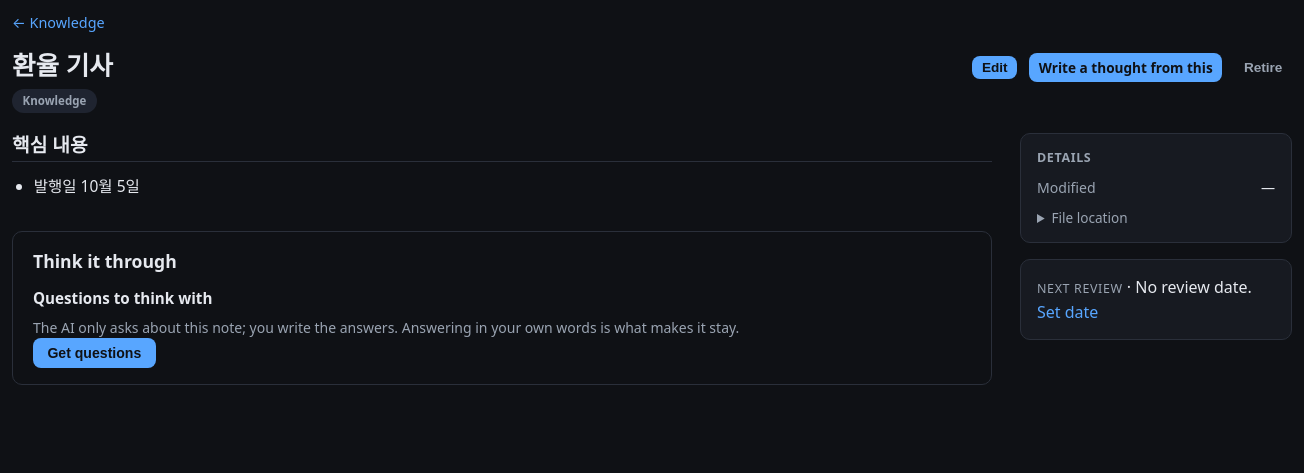
it: Editing notes › shows why an edit was not saved
Click the button "Edit". click: x=995, y=68
box: [972,56,1017,79]
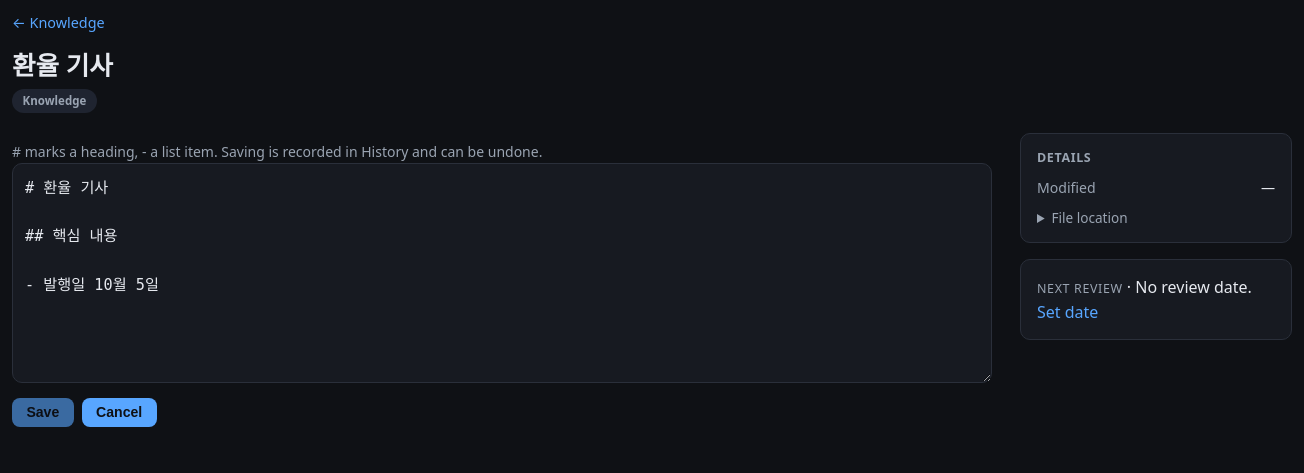
Type " 추가" into the text box named "Edit". click: x=502, y=273
box: [12,162,992,383]
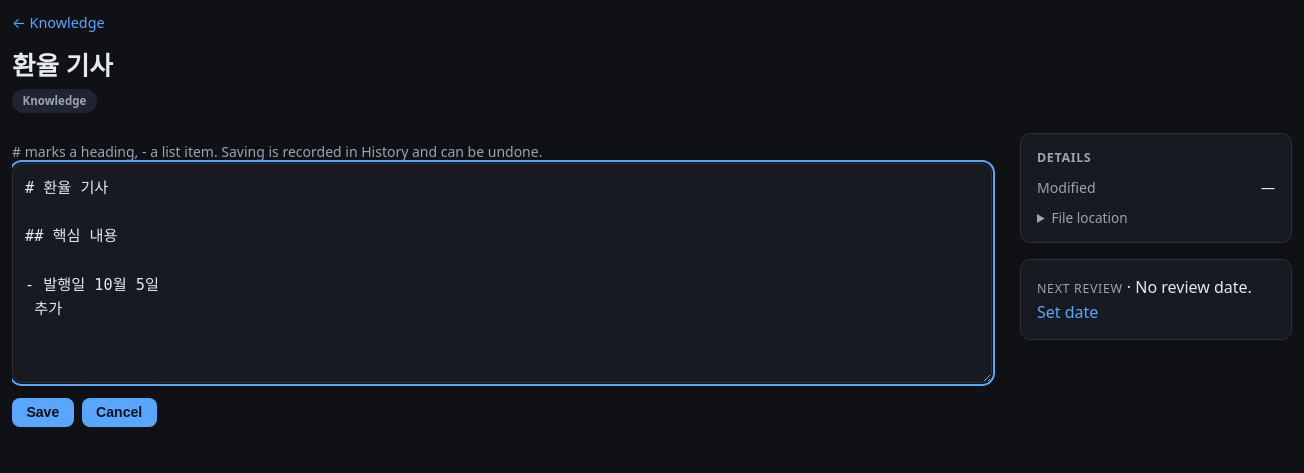
Click the button "Save". click: x=43, y=412
box: [12,398,74,427]
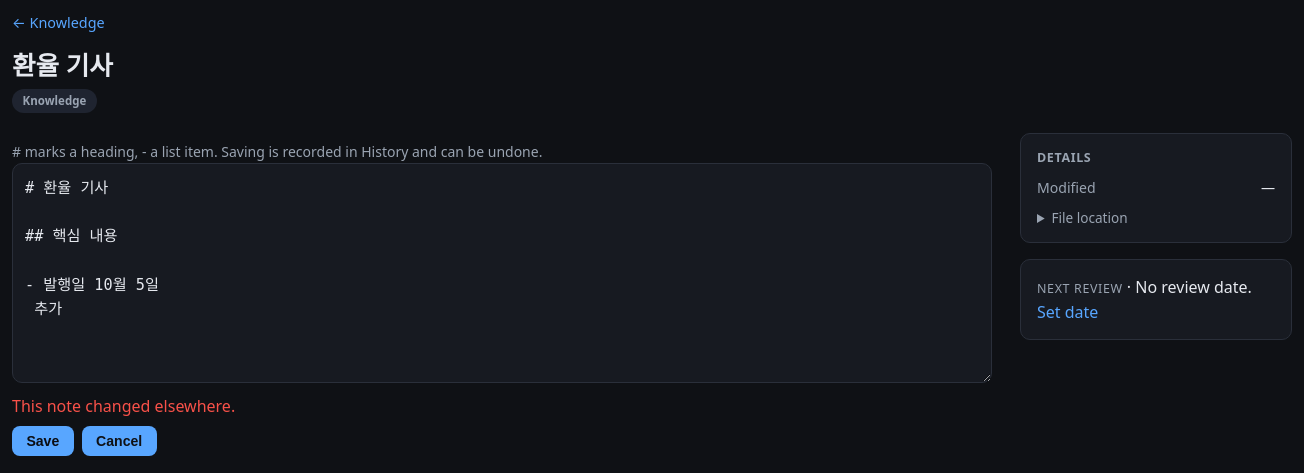
expect the message reads "This note changed elsewhere.": met, box [12,395,235,417]
